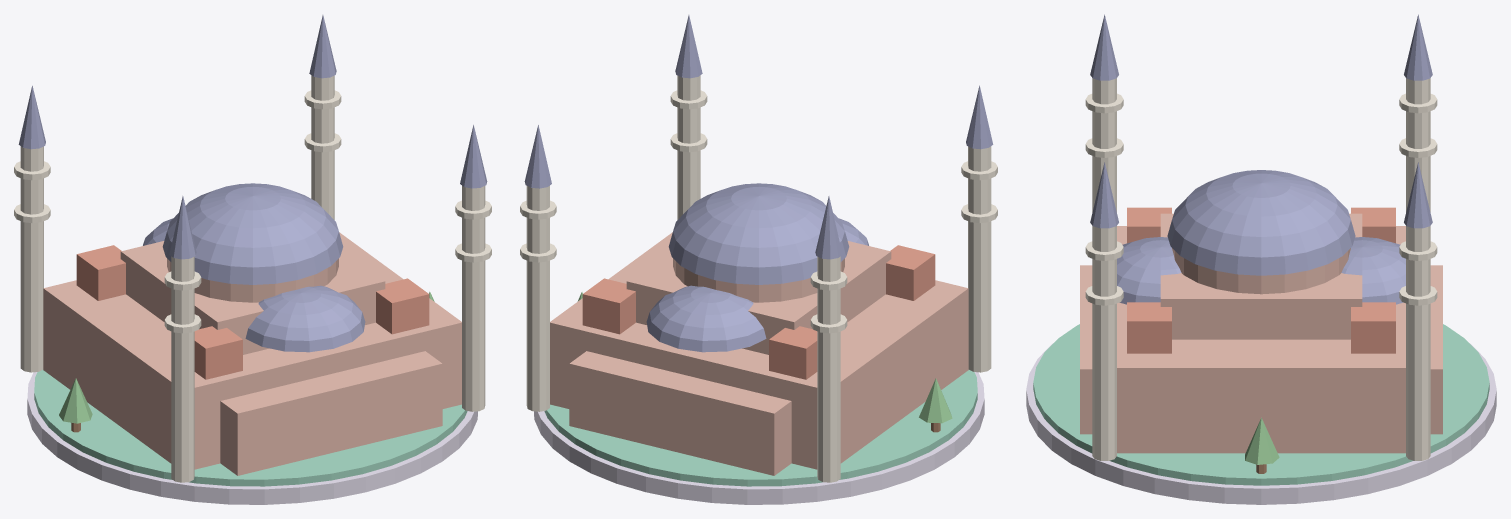
Rendered from ayasofya.glb.
3 renders of one model, left to right at view 1: azimuth 30°, elevation 25°; view 2: azimuth 150°, elevation 25°; view 3: azimuth 270°, elevation 25°, orthographic. The views are drawn at different scales.
Visible parts, largest first — view 1: ayasofya; view 2: ayasofya; view 3: ayasofya.
Part boxes in pixels (left/top/right/bottom): ayasofya: left=14, top=15, right=491, bottom=504; ayasofya: left=520, top=15, right=997, bottom=504; ayasofya: left=1026, top=14, right=1496, bottom=504.
Bounding box in the file's own units: 2.1 × 1.56 × 2.1.
1 material, 1 textured.
